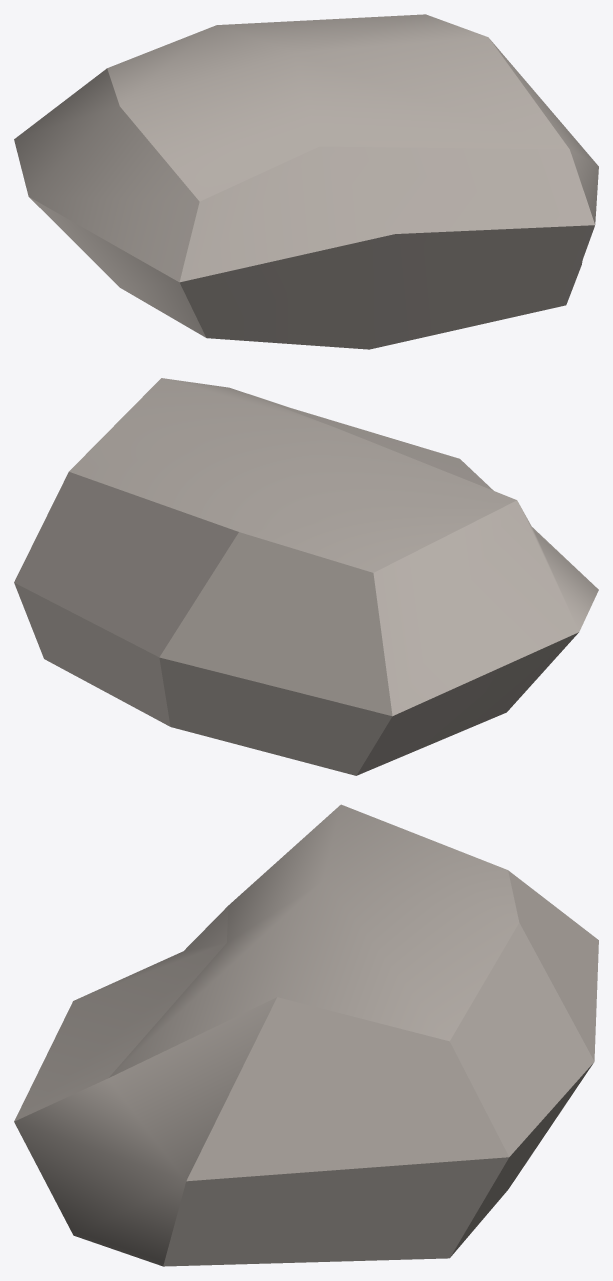
Rendered from Rock_L_3.fbx.
3 views of the same model, one above another, from view 1: azimuth 30°, elevation 25°; view 2: azimuth 150°, elevation 25°; view 3: azimuth 270°, elevation 25° (orthographic). The views are drawn at different scales.
Visible parts, largest first — view 1: Rock_3; view 2: Rock_3; view 3: Rock_3.
Boxes of the visible parts, x1,y1,x2,y2 form: Rock_3: (14, 14, 598, 349); Rock_3: (14, 378, 598, 775); Rock_3: (14, 804, 598, 1266).
Size of the model in its own units: 0.0522 by 0.0243 by 0.0455.
